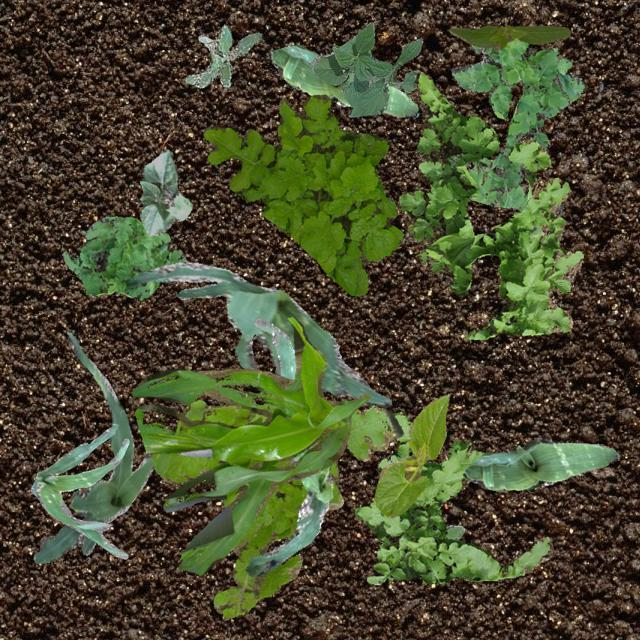crop: (130, 316, 370, 576), (132, 262, 390, 406), (33, 332, 154, 562), (245, 318, 332, 576), (30, 422, 128, 558), (309, 20, 422, 116), (268, 44, 417, 116), (374, 392, 448, 516), (462, 436, 618, 491), (138, 148, 192, 235), (448, 24, 568, 48)
weed: (150, 398, 402, 620), (398, 72, 582, 340), (202, 94, 402, 296), (353, 412, 552, 584), (451, 36, 584, 215), (62, 214, 185, 300), (185, 24, 261, 86), (444, 524, 464, 540)
